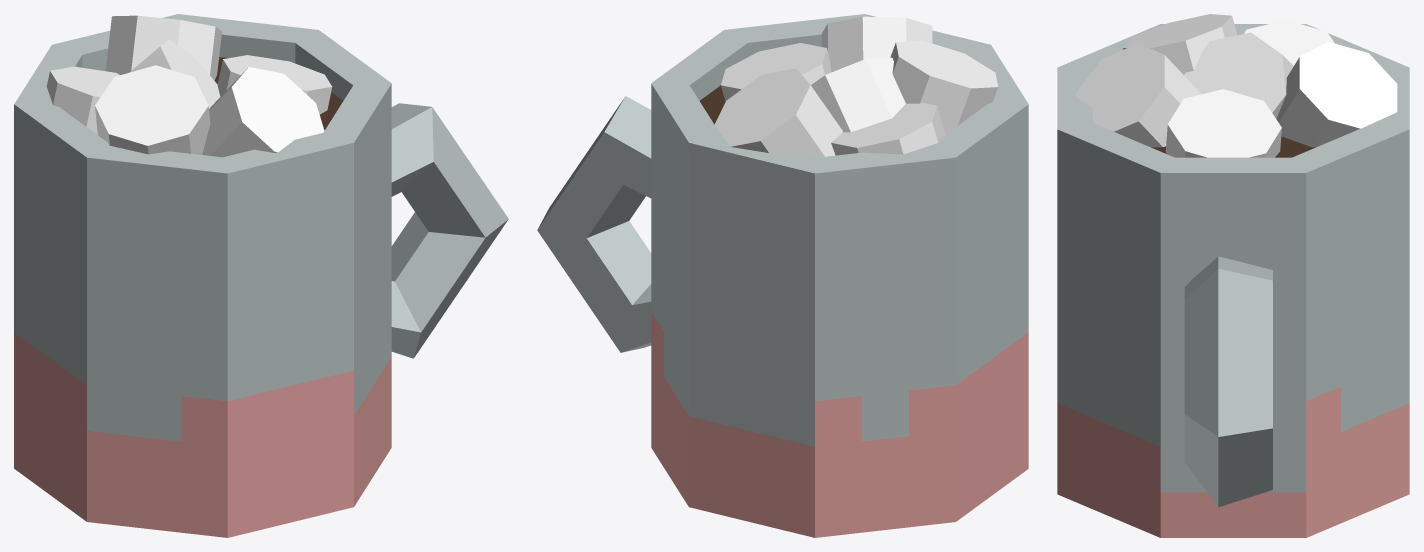
Rendered from mug.gltf.
3 renders of one model, left to right at view 1: azimuth 30°, elevation 25°; view 2: azimuth 150°, elevation 25°; view 3: azimuth 270°, elevation 25°, orthographic.
Visible parts, largest first — view 1: tube, marshmellow (×6), torus; view 2: tube, marshmellow (×6), torus; view 3: tube, marshmellow (×6), torus, milk.
Boxes of the visible parts, x1=… form: tube: x1=14, y1=14, x2=391, y2=537; marshmellow (×6): x1=46, y1=15, x2=332, y2=157; torus: x1=391, y1=103, x2=508, y2=358; tube: x1=651, y1=14, x2=1028, y2=537; marshmellow (×6): x1=714, y1=16, x2=998, y2=157; torus: x1=537, y1=96, x2=651, y2=352; tube: x1=1057, y1=24, x2=1409, y2=537; marshmellow (×6): x1=1075, y1=14, x2=1397, y2=157; torus: x1=1184, y1=256, x2=1272, y2=507; milk: x1=1151, y1=136, x2=1315, y2=157.
Size of the model in its own units: 0.6472 by 0.5833 by 0.4375.
4 materials, 4 textured.
